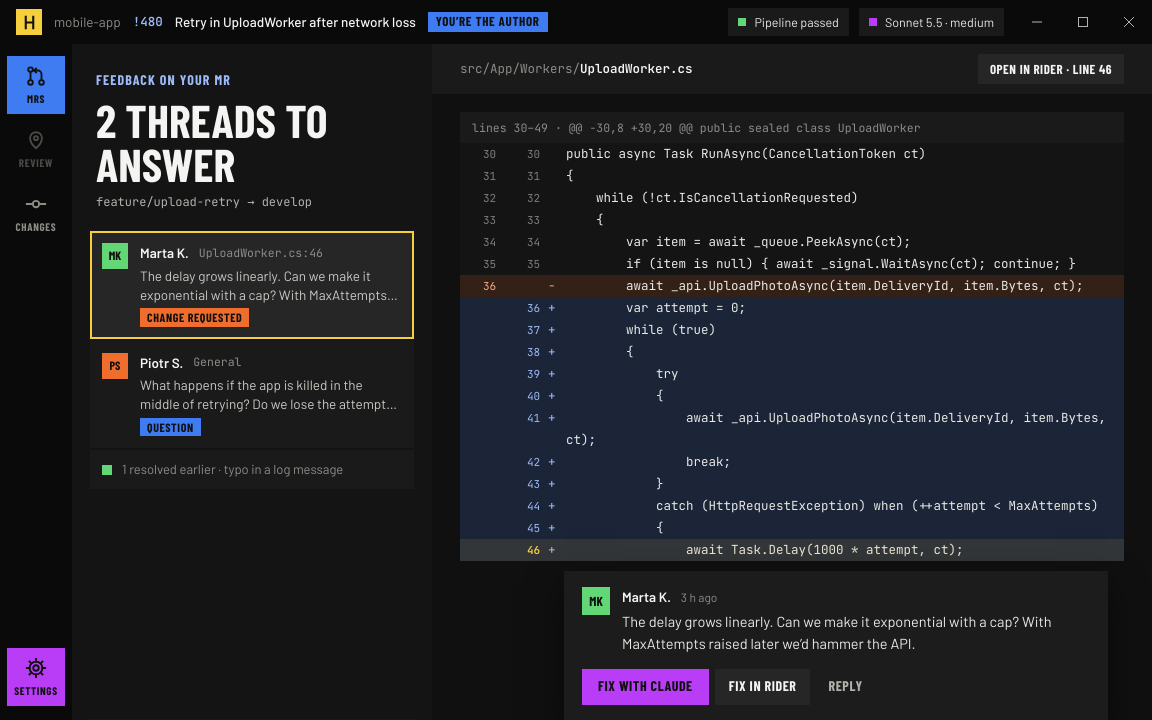
Test: S-10 question thread: reply composer (F-26.7) › F-26.7 a question on the MR itself (no file) has the composer too
The width and height of the screenshot is (1152, 720).
Click the option that starts with "Piotr S.". click: (252, 394)
box: [90, 341, 414, 448]
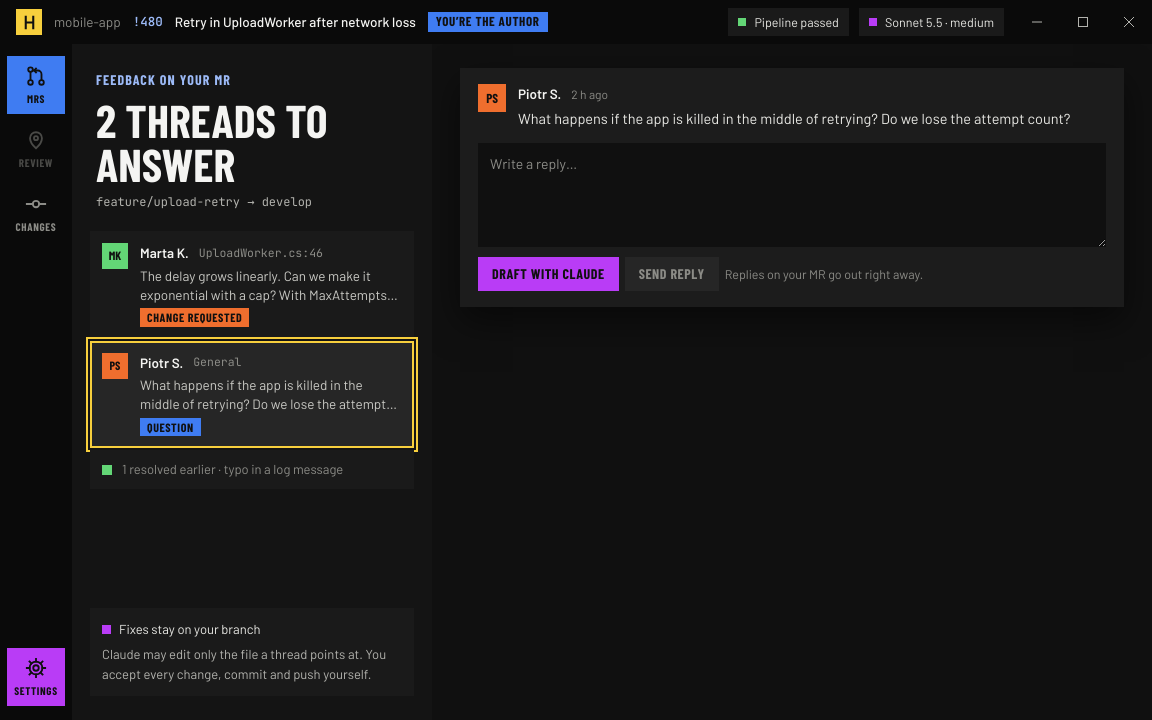
Expected: the text box named "Your reply" is shown, [478, 143, 1106, 247]
Expected: the button "Open in Rider" is gone
Click the button "Draft with Claude". click: (548, 274)
box: [478, 257, 619, 291]
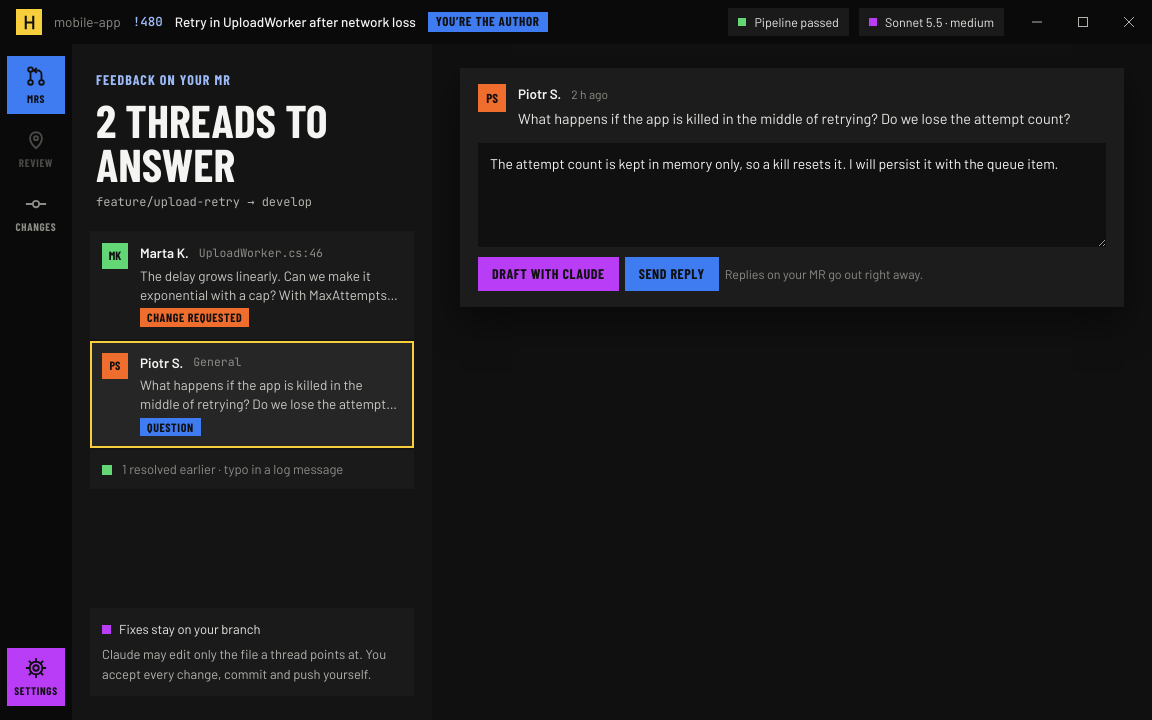
Expected: the text box holds "The attempt count is kept in memory only, so a kill resets it. I will persist it with the queue item.", [478, 143, 1106, 247]
